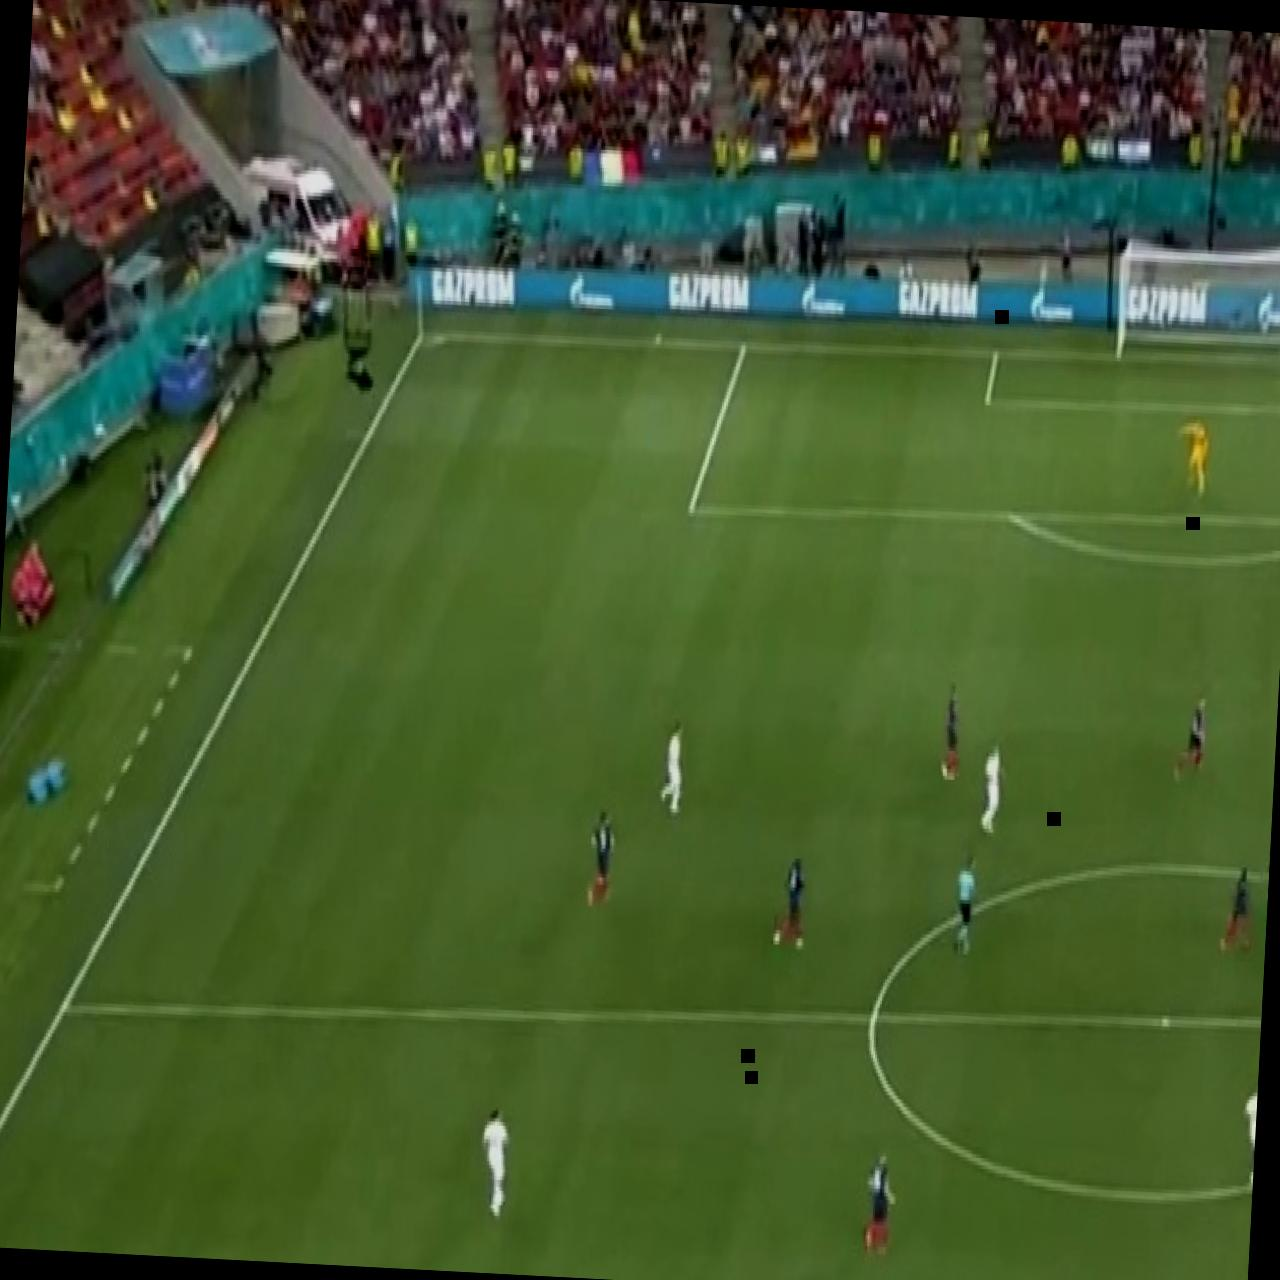football: (764, 844, 815, 964), (856, 1148, 904, 1264), (472, 1101, 516, 1226), (1167, 678, 1210, 798), (650, 711, 692, 831), (1214, 854, 1260, 962), (578, 796, 620, 910), (1168, 414, 1214, 504), (948, 848, 984, 954), (975, 731, 1010, 839), (938, 671, 966, 785), (1234, 1070, 1258, 1201), (1262, 824, 1272, 934)
